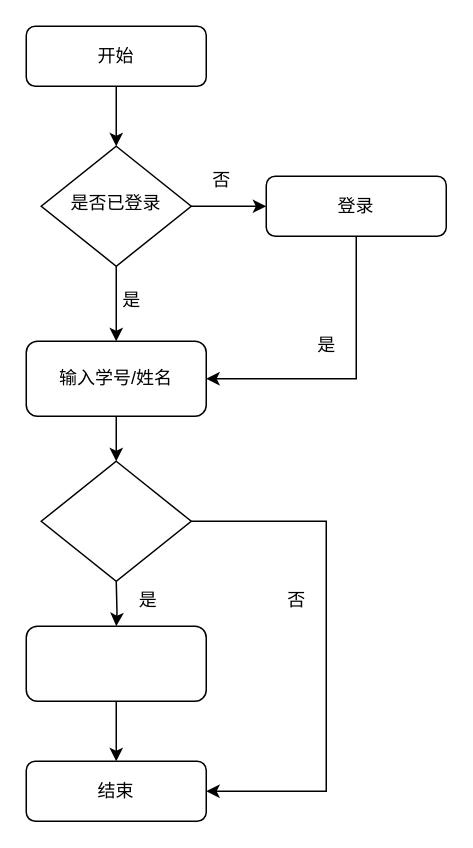
Image size: 473x848. Some labels were removed from this diagram. Here are the shapes that lost their labels. From the top down, the centre of each, then its label:
(x=115, y=520): 学生是否存在？
(x=115, y=663): 展示成绩
